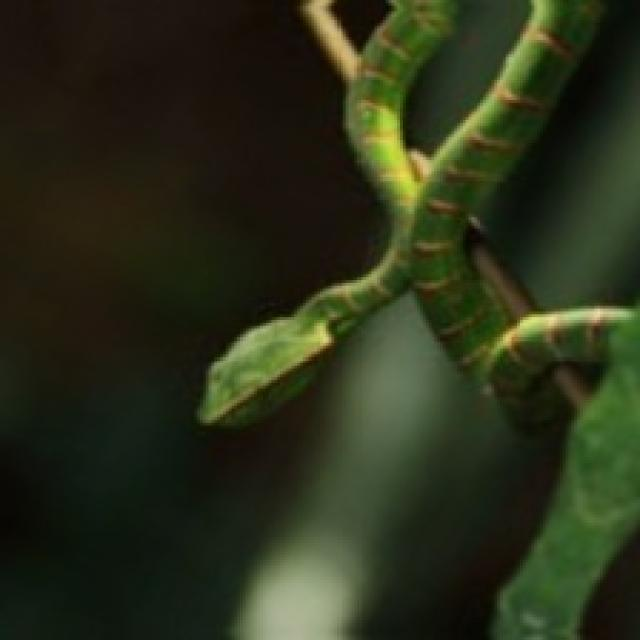north ph temple pitviper: (199, 0, 634, 427)
